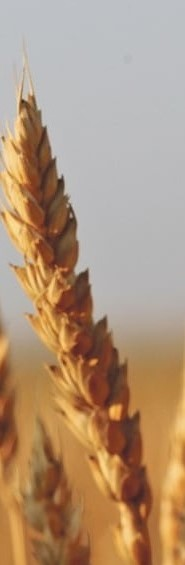Healthy Wheat: (1, 78, 163, 509)
